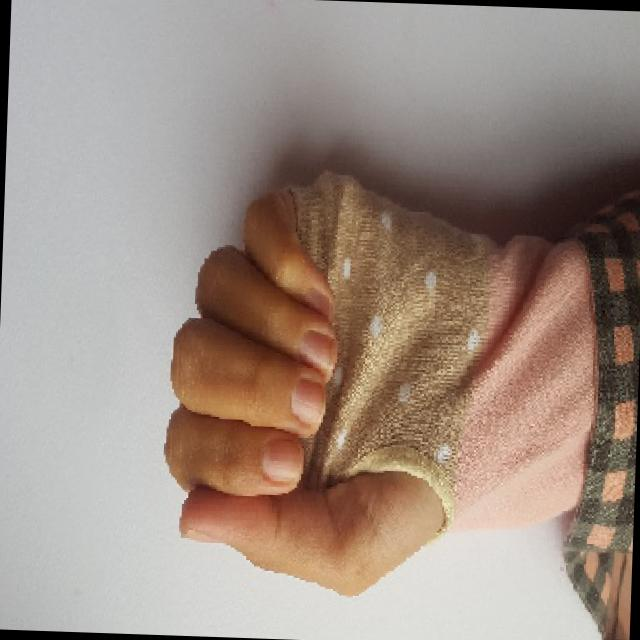Nail: (261, 439, 303, 482), (298, 330, 337, 376), (291, 379, 325, 421), (180, 525, 220, 542), (303, 291, 328, 315)
